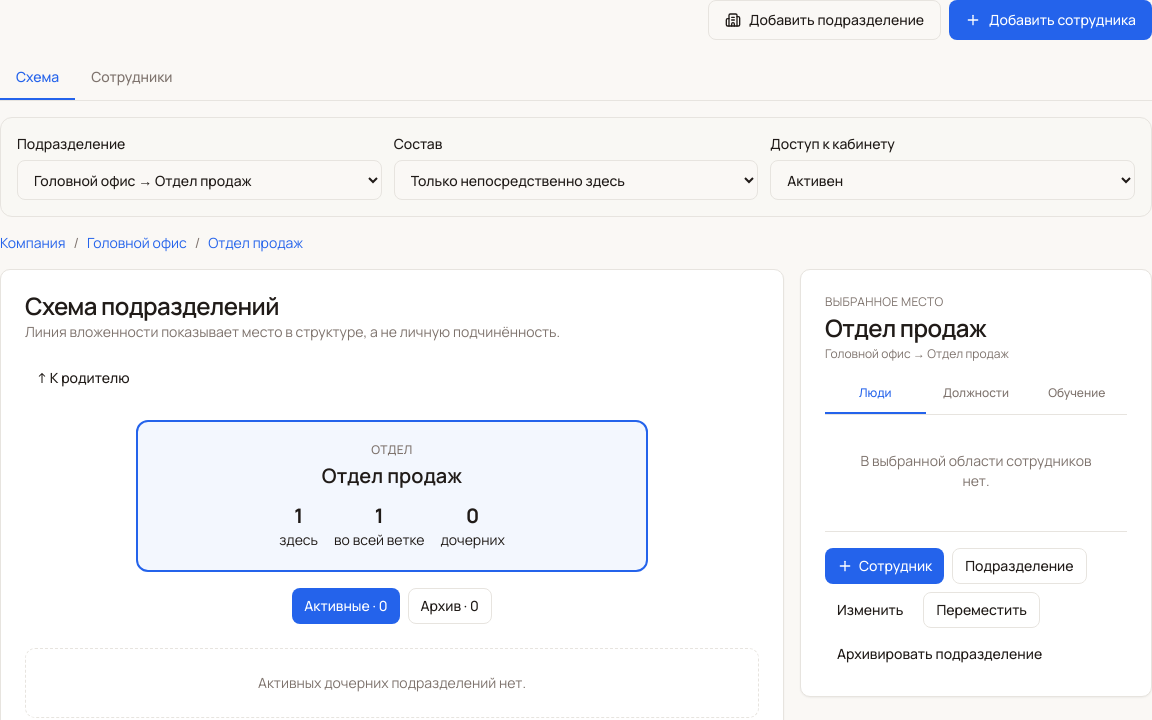
Test: StaffWorkspace › shows a shared position from effective unit counts even when its fallback department differs
Click the tab "Должности" at point(976, 394), box left=926, top=374, right=1026, bottom=414
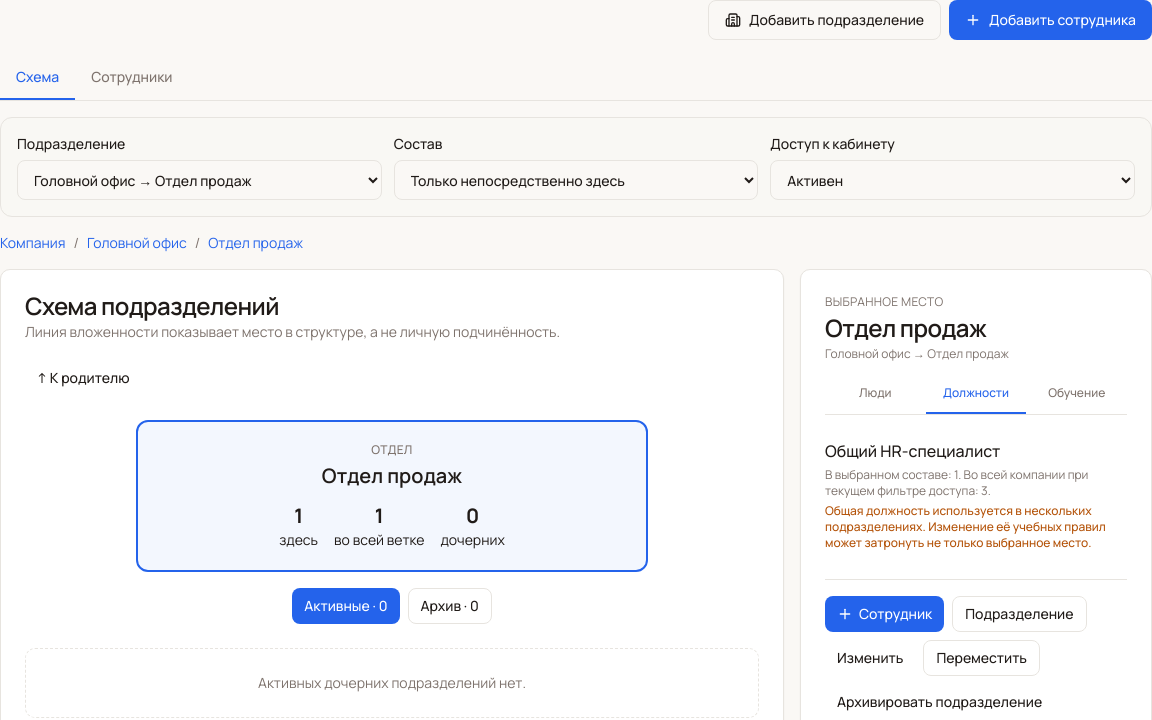
Check: the text "Общий HR-специалист" is shown, box left=825, top=440, right=1000, bottom=462
Check: the text "Общая должность используется в нескольких подразделениях" is shown, box left=825, top=502, right=1106, bottom=551
